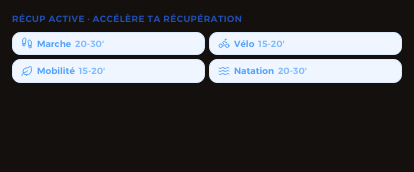
Test: InlineActiveRecovery › deselecting hides the detail/confirm
The width and height of the screenshot is (414, 172).
What coordinates should you click on to do the following:
click the button with test id "ar-activity-swim"
I would click on:
 (306, 71)
Its box is [209,59,402,82].
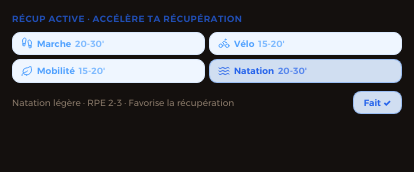
Expected: the button with test id "ar-complete-btn" is shown, [353,90,402,114]
What coordinates should you click on to do the following:
click the button with test id "ar-activity-swim"
I would click on:
 (306, 71)
Its box is [209,59,402,82].
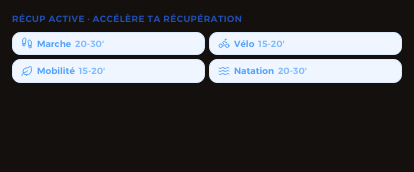
Expected: the button with test id "ar-complete-btn" is gone
